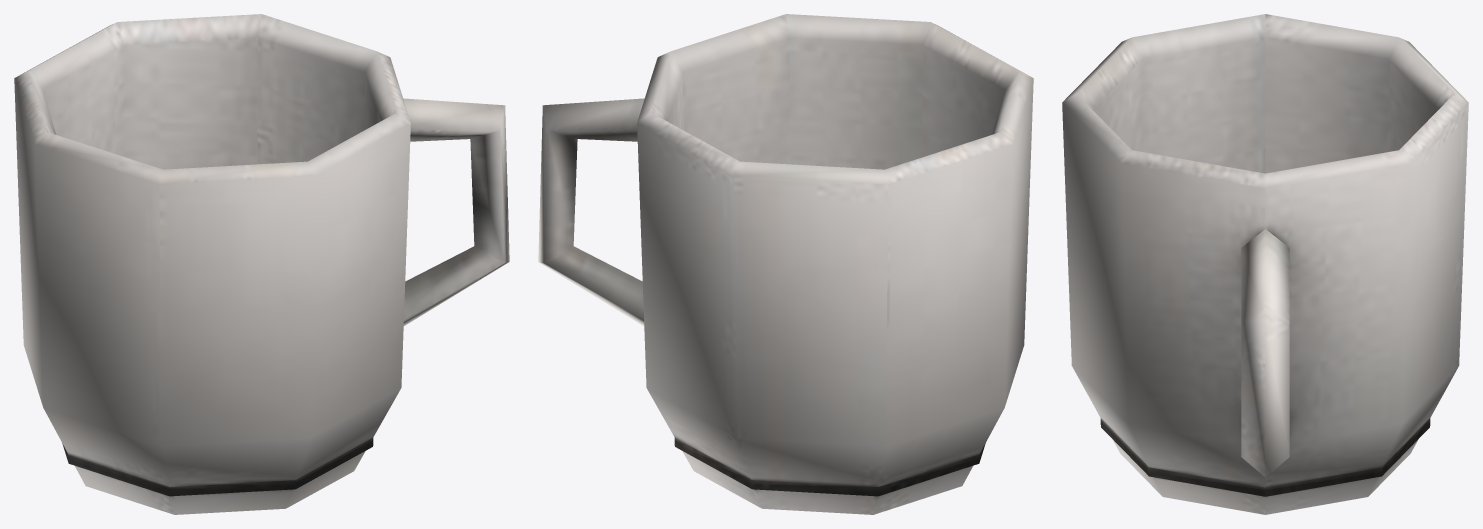
Rendered from cup_lod1_web.glb.
The picture shows the model from 3 angles, left to right: view 1: azimuth 30°, elevation 25°; view 2: azimuth 150°, elevation 25°; view 3: azimuth 270°, elevation 25°; orthographic projection.
Parts seen in each view (by area): view 1: Cup_Body; view 2: Cup_Body; view 3: Cup_Body.
Part boxes in pixels (left/top/right/bottom): Cup_Body: left=14, top=14, right=509, bottom=514; Cup_Body: left=538, top=14, right=1033, bottom=514; Cup_Body: left=1062, top=14, right=1468, bottom=514.
Size of the model in its own units: 0.1122 by 0.082 by 0.084.
1 material, 1 textured.
